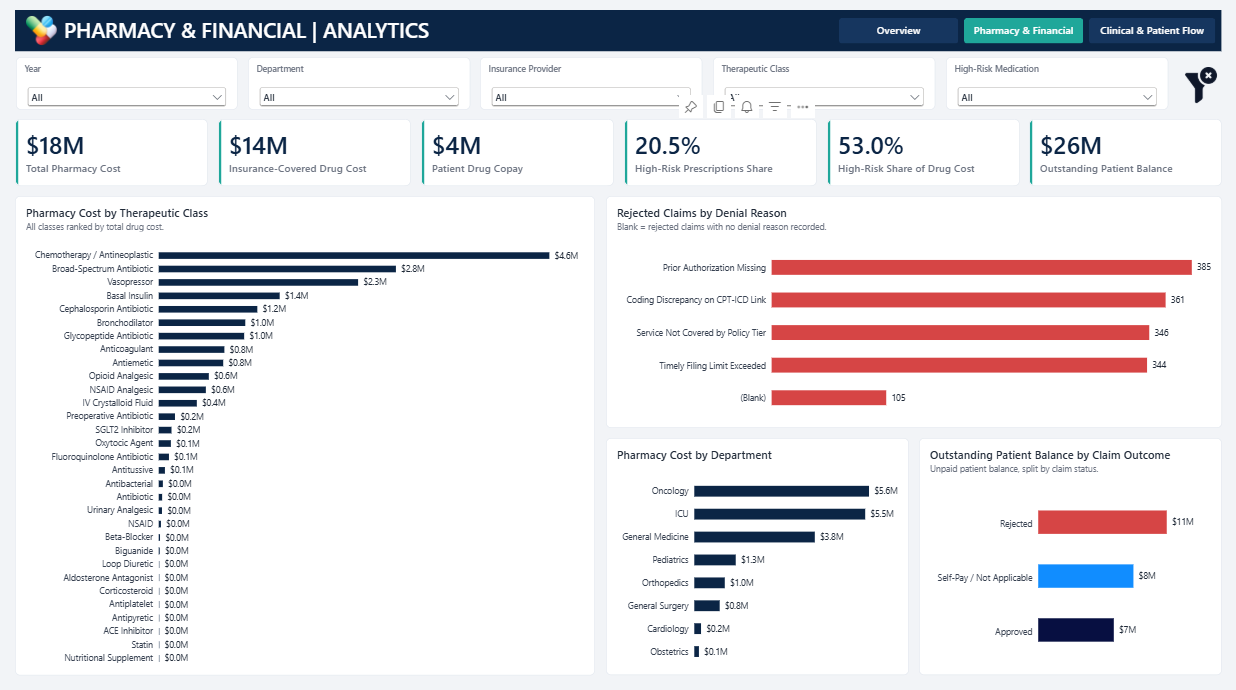

The dashboard page shown, as its layout file describes it:
{"tool":"powerbi","page":{"name":"Pharmacy & Financial","canvas":[1920,1080],"ordinal":1},"visuals":[{"type":"textbox","box":[24,16,1872,64],"z":0},{"type":"image","box":[40,24,48,48],"z":1000},{"type":"textbox","box":[100,16,1200,64],"z":2000},{"type":"actionButton","box":[1302.6,28.7,185.1,39.7],"z":3000},{"type":"actionButton","box":[1496.6,28.7,185.1,39.7],"z":4000},{"type":"actionButton","box":[1690.5,28.7,196.2,39.7],"z":5000},{"type":"slicer","title":"Year","fields":{"Values":["Calendar.Year"]},"box":[24.2,88.2,343.8,82],"z":6000},{"type":"slicer","title":"Department","fields":{"Values":["vw_hospital_summary.department"]},"box":[384.8,88.2,344.8,82],"z":7000},{"type":"slicer","title":"Insurance Provider","fields":{"Values":["vw_hospital_summary.primary_insurance_provider"]},"box":[745.6,88.2,344.8,82],"z":8000},{"type":"slicer","title":"Therapeutic Class","fields":{"Values":["vw_pharmacy_cost.therapeutic_class"]},"box":[1106.4,88.2,344.8,82],"z":9000},{"type":"slicer","title":"High-Risk Medication","fields":{"Values":["vw_pharmacy_cost.High_Risk_Status"]},"box":[1467.2,88.2,344.8,82],"z":10000},{"type":"image","box":[1836,104,56,56],"z":11000},{"type":"cardVisual","fields":{"Data":["_Measures.Total_Pharmacy_Cost"]},"box":[24,184,298.7,104],"z":12000},{"type":"cardVisual","fields":{"Data":["_Measures.Total_Insurance_Drug_Covered"]},"box":[338.7,184,298.7,104],"z":13000},{"type":"cardVisual","fields":{"Data":["_Measures.Total_Patient_Drug_Copay"]},"box":[653.3,184,298.7,104],"z":14000},{"type":"cardVisual","fields":{"Data":["_Measures.High_Risk_Med_Share_%"]},"box":[968,184,298.7,104],"z":15000},{"type":"cardVisual","fields":{"Data":["_Measures.High-Risk Share of Pharmacy Cost %"]},"box":[1282.7,184,298.7,104],"z":16000},{"type":"cardVisual","fields":{"Data":["_Measures.Outstanding Patient Balance"]},"box":[1597.3,184,298.7,104],"z":17000},{"type":"clusteredBarChart","title":"Pharmacy Cost by Therapeutic Class","fields":{"Category":["vw_pharmacy_cost.therapeutic_class"],"Y":["_Measures.Total_Pharmacy_Cost"]},"box":[24,304,900,744],"z":18000},{"type":"clusteredBarChart","title":"Rejected Claims by Denial Reason","fields":{"Category":["vw_hospital_summary.claim_denial_reason"],"Y":["_Measures.Rejected Claims"]},"box":[940,304,956,360],"z":19000},{"type":"clusteredBarChart","title":"Pharmacy Cost by Department","fields":{"Category":["vw_hospital_summary.department"],"Y":["_Measures.Total_Pharmacy_Cost"]},"box":[940,680,470,368],"z":20000},{"type":"clusteredBarChart","title":"Outstanding Patient Balance by Claim Outcome","fields":{"Category":["vw_hospital_summary.claim_status"],"Y":["_Measures.Outstanding Patient Balance"]},"box":[1426,680,470,368],"z":21000}]}

Visuals, with their boxes in screenshot pixels (x1, y1, x2, y2), scaled from the page's 1920x1080 canvas onto the 1236x690 screenshot:
textbox: 15:10:1221:51
image: 26:15:57:46
textbox: 64:10:837:51
actionButton: 839:18:958:44
actionButton: 963:18:1083:44
actionButton: 1088:18:1215:44
"Year" slicer: 16:56:237:109
"Department" slicer: 248:56:470:109
"Insurance Provider" slicer: 480:56:702:109
"Therapeutic Class" slicer: 712:56:934:109
"High-Risk Medication" slicer: 945:56:1166:109
image: 1182:66:1218:102
cardVisual - _Measures.Total_Pharmacy_Cost: 15:118:208:184
cardVisual - _Measures.Total_Insurance_Drug_Covered: 218:118:410:184
cardVisual - _Measures.Total_Patient_Drug_Copay: 421:118:613:184
cardVisual - _Measures.High_Risk_Med_Share_%: 623:118:815:184
cardVisual - _Measures.High-Risk Share of Pharmacy Cost %: 826:118:1018:184
cardVisual - _Measures.Outstanding Patient Balance: 1028:118:1221:184
"Pharmacy Cost by Therapeutic Class" clusteredBarChart: 15:194:595:670
"Rejected Claims by Denial Reason" clusteredBarChart: 605:194:1221:424
"Pharmacy Cost by Department" clusteredBarChart: 605:434:908:670
"Outstanding Patient Balance by Claim Outcome" clusteredBarChart: 918:434:1221:670
